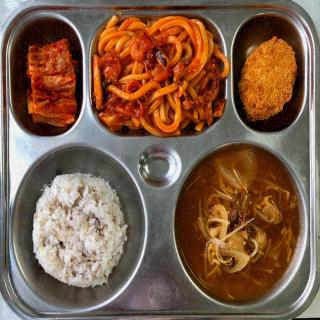Nasi: (30, 169, 129, 298)
